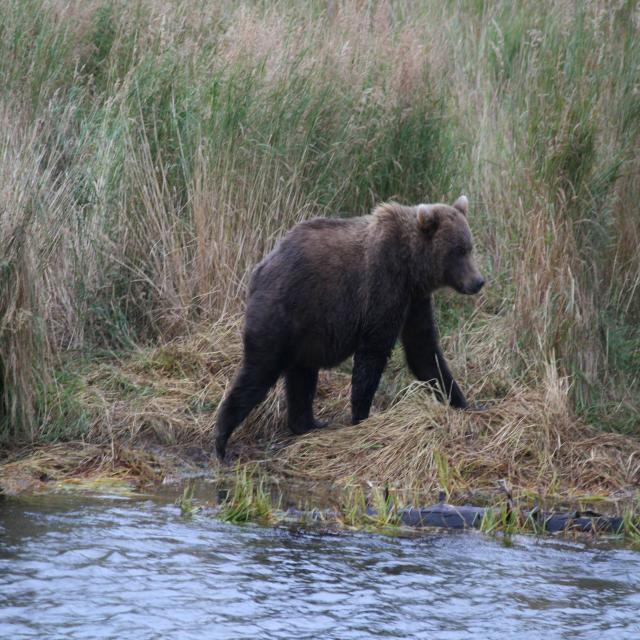bear face: (214, 197, 484, 462)
